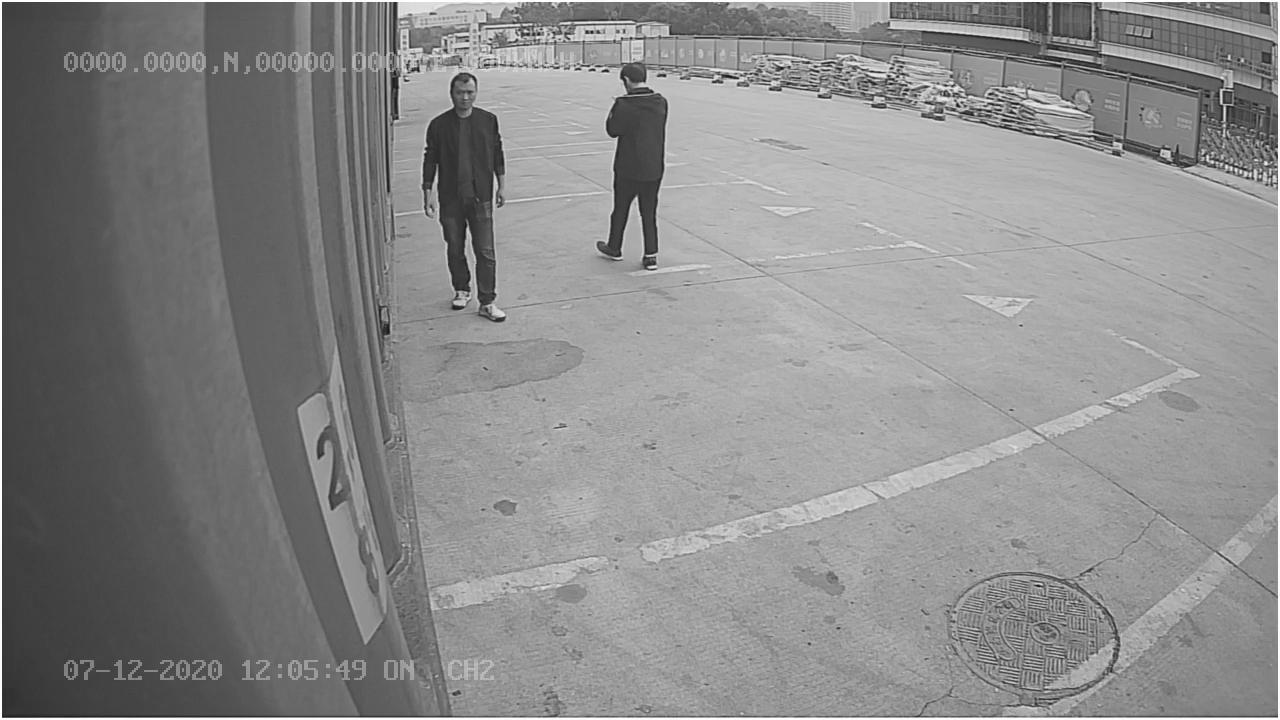person: (415, 68, 516, 325), (593, 54, 677, 272)
